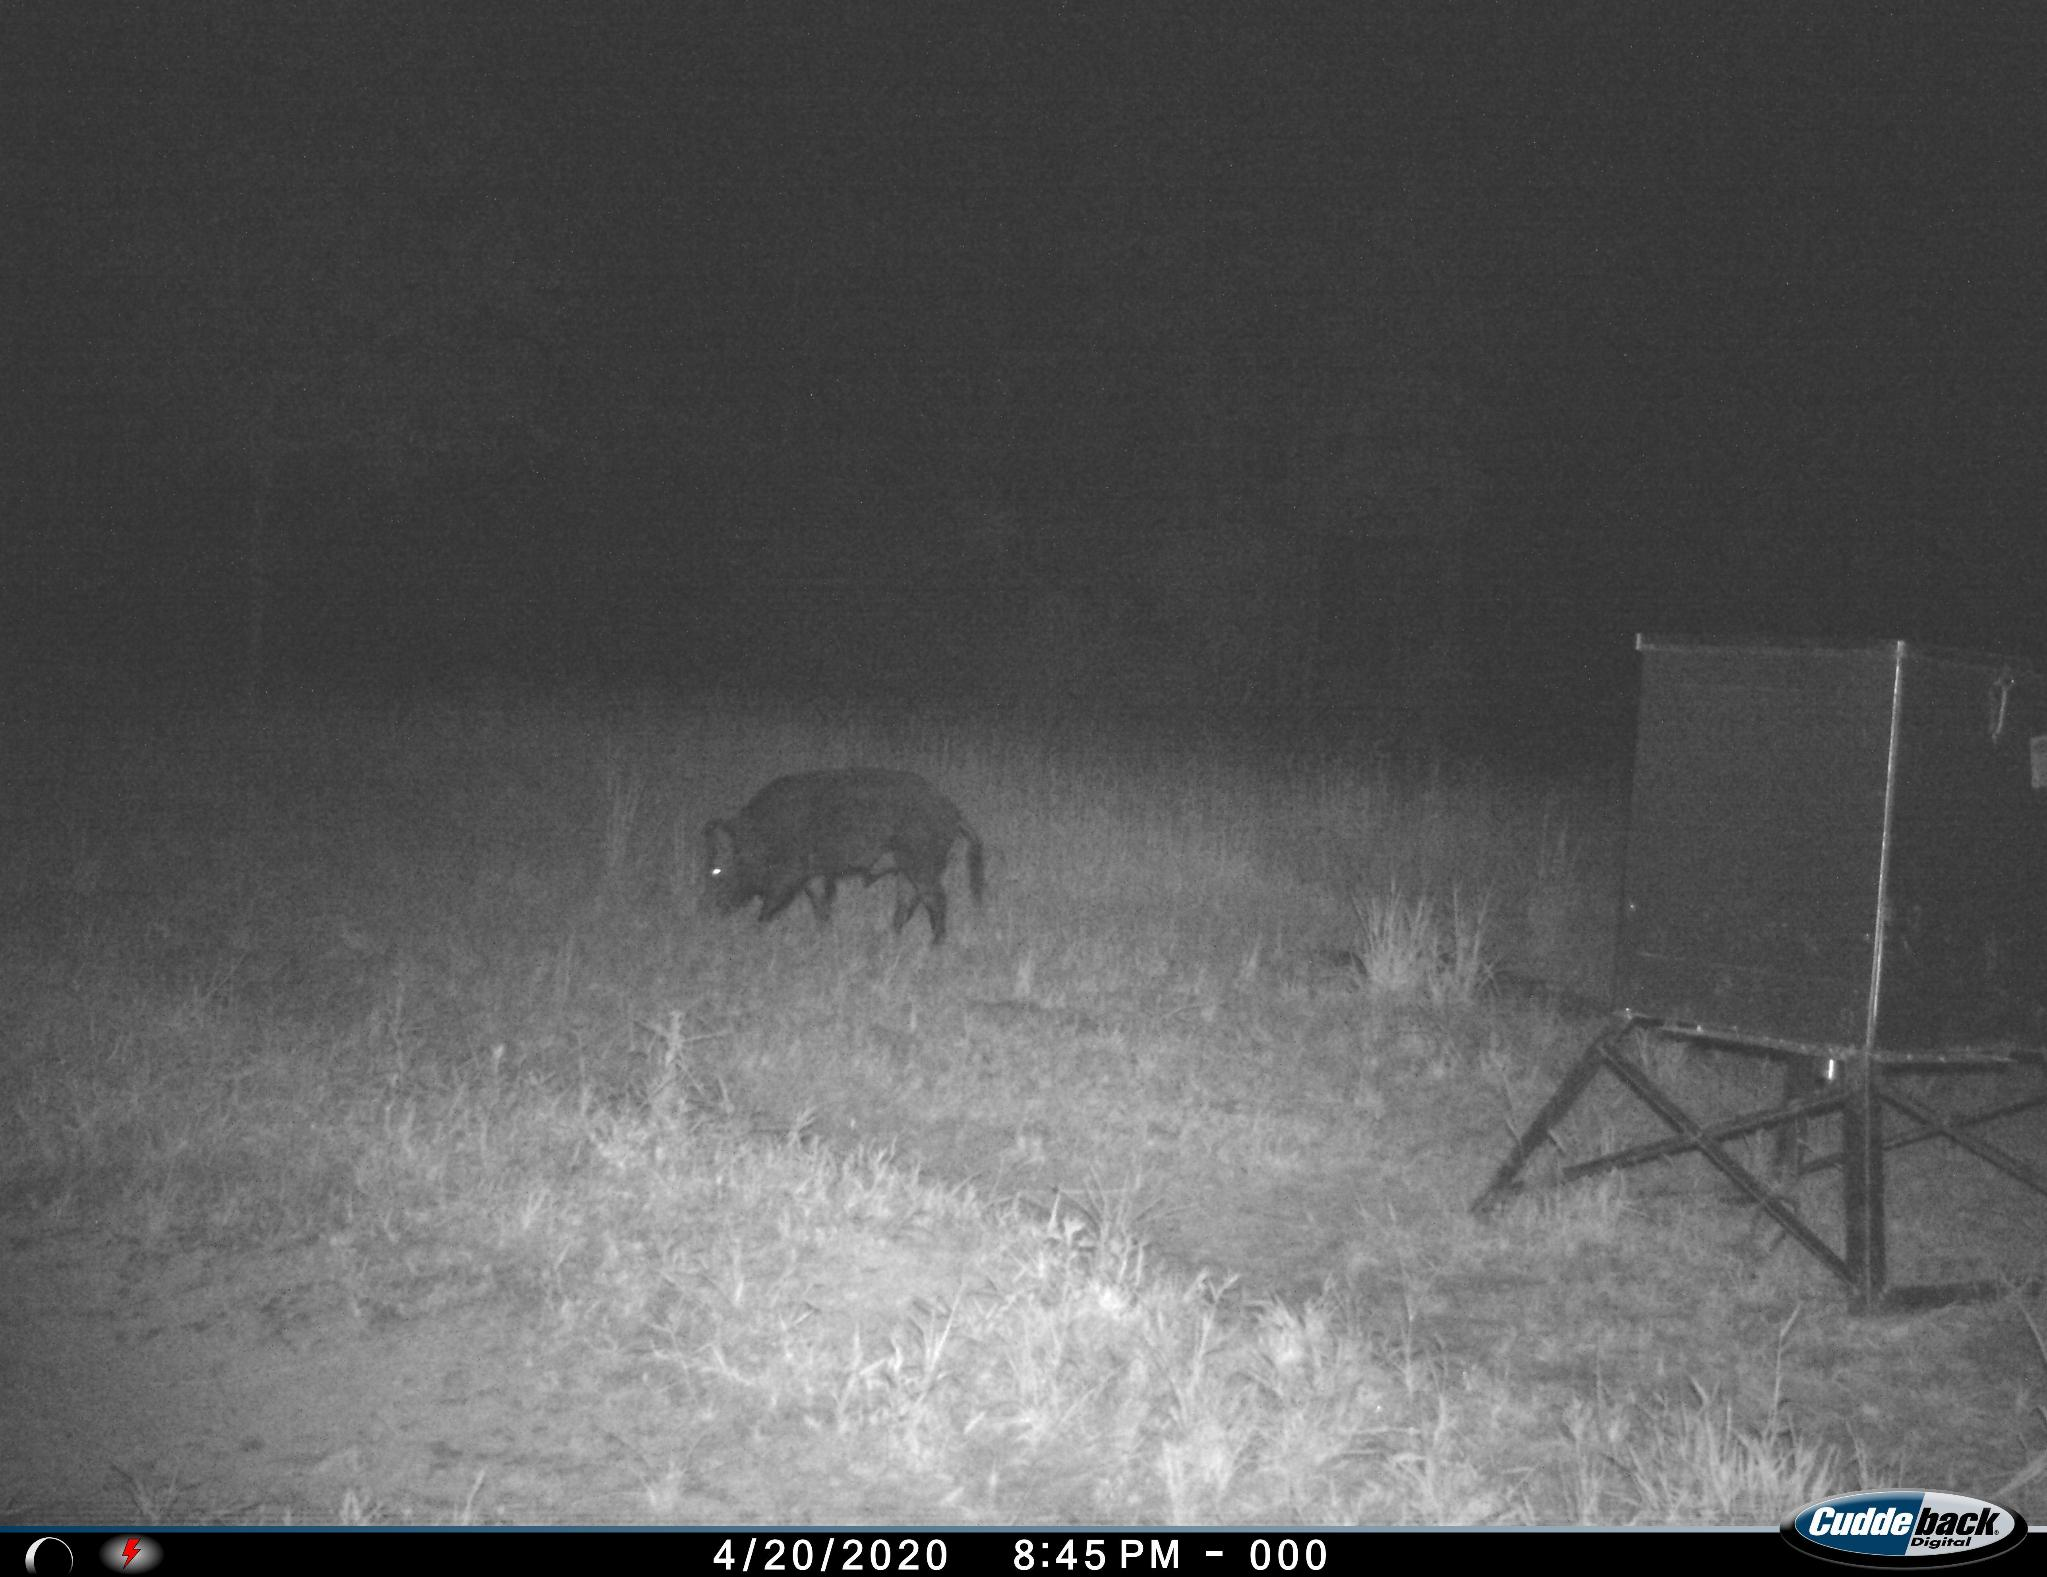Hog: (687, 767, 1030, 969)
